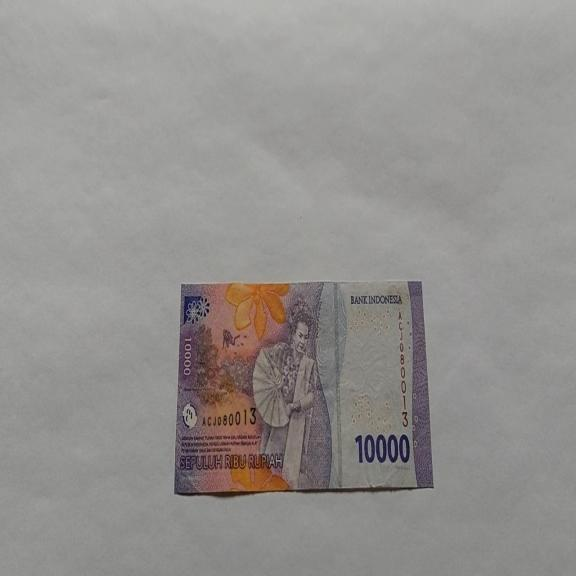Kertas: (174, 279, 434, 495), (354, 430, 410, 465)
